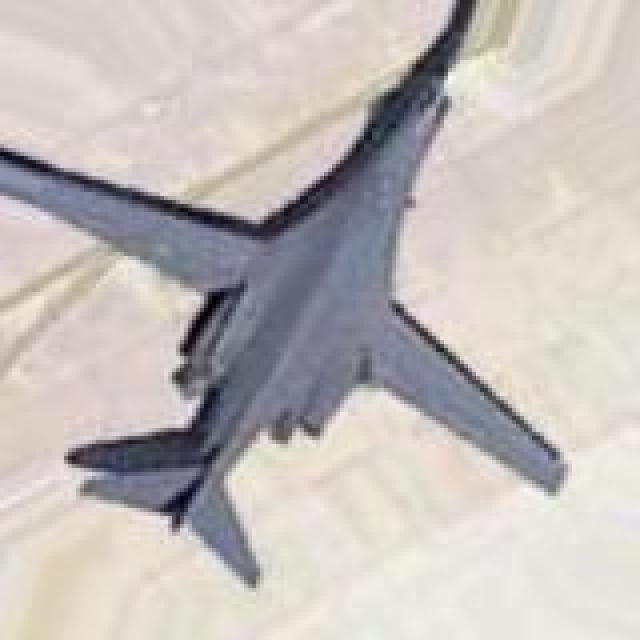B-1_TopDown: (0, 2, 575, 584)
